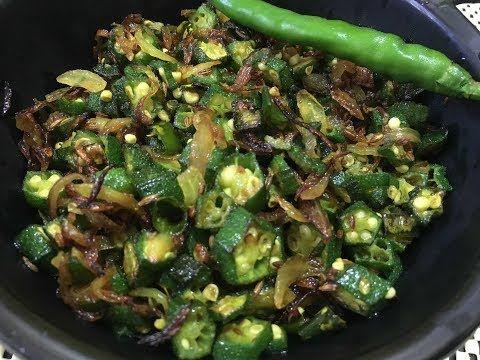bhindi: (54, 72, 397, 319)
